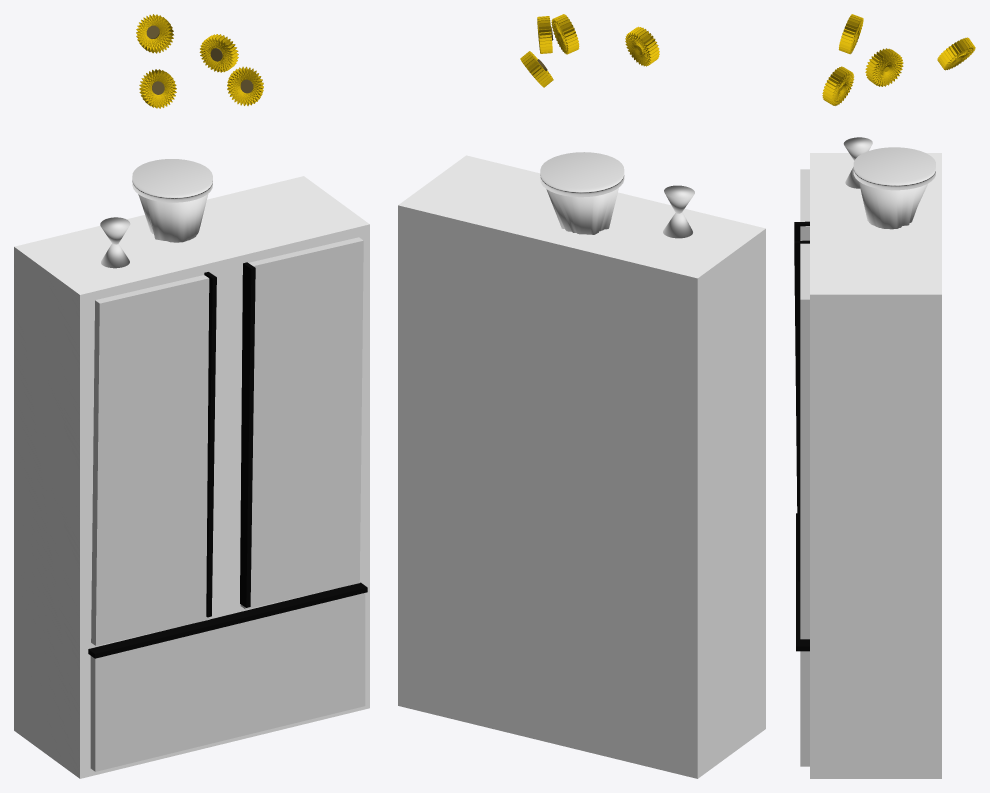
File: Regal.fbx
3 renders of one model, left to right at view 1: azimuth 30°, elevation 25°; view 2: azimuth 150°, elevation 25°; view 3: azimuth 270°, elevation 25°, orthographic. The views are drawn at different scales.
Visible parts, largest first — view 1: Cube, Cube.005, Cube.003, Cube.001, Cube.006, Cube.002, Cylinder.001, Cube.007, Cylinder, Cylinder.004, Cylinder.003, Cylinder.005 (+1 smaller); view 2: Cube, Cylinder.001, Cylinder, Cylinder.003, Cylinder.002; view 3: Cube, Cube.003, Cylinder.001, Cylinder, Cube.006, Cube.001, Cylinder.004, Cylinder.002, Cylinder.005, Cube.005, Cylinder.003, Cube.002 (+1 smaller).
Boxes of the visible parts, box(x1,y1,x2,y2) form: Cube: box(14, 176, 369, 778); Cube.005: box(91, 275, 209, 645); Cube.003: box(240, 237, 363, 609); Cube.001: box(90, 593, 365, 771); Cube.006: box(240, 262, 255, 607); Cube.002: box(88, 582, 367, 658); Cylinder.001: box(132, 159, 212, 202); Cube.007: box(204, 272, 216, 617); Cylinder: box(138, 193, 208, 242); Cylinder.004: box(199, 34, 238, 72); Cylinder.003: box(139, 69, 176, 108); Cylinder.005: box(136, 14, 173, 53); Cube: box(398, 155, 765, 778); Cylinder.001: box(540, 152, 624, 197); Cylinder: box(546, 188, 618, 234); Cylinder.003: box(625, 26, 659, 66); Cylinder.002: box(551, 14, 579, 54); Cube: box(810, 153, 941, 778); Cube.003: box(800, 243, 809, 639); Cylinder.001: box(853, 147, 935, 190); Cylinder: box(859, 182, 928, 229); Cube.006: box(794, 240, 809, 581); Cube.001: box(800, 651, 809, 766); Cylinder.004: box(865, 48, 903, 86); Cylinder.002: box(822, 66, 854, 105); Cylinder.005: box(937, 37, 975, 70); Cube.005: box(800, 169, 809, 240); Cylinder.003: box(838, 14, 863, 54); Cube.002: box(796, 513, 809, 651).
Bounding box in the file's own units: 507 × 1124 × 275.
